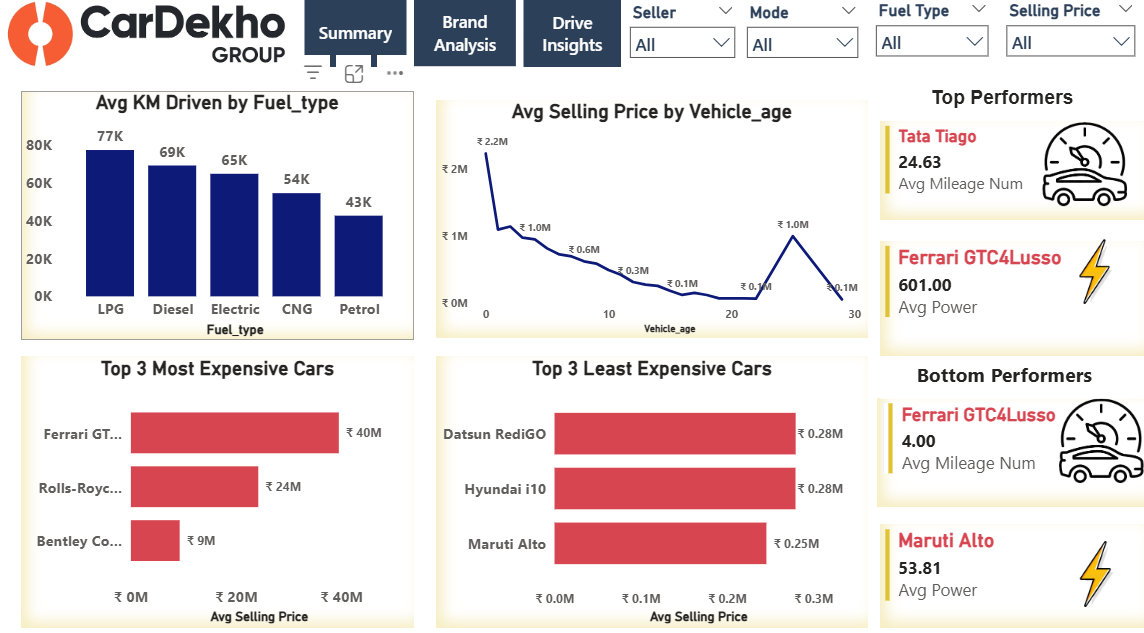

Layout of this report page (visuals, bound fields, positions):
{"tool":"powerbi","page":{"name":"Brand Analysis","canvas":[1280,720],"ordinal":1},"visuals":[{"type":"image","box":[11.6,0,313.1,92.8],"z":0},{"type":"actionButton","box":[342.9,5,112.6,77.9],"z":1000},{"type":"actionButton","box":[464.4,6.9,112.5,75.5],"z":2000},{"type":"actionButton","box":[584.7,8.3,107.7,74.5],"z":3000},{"type":"slicer","title":"Fuel Type","fields":{"Values":["Cars.Fuel_type"]},"box":[964.7,5.5,144.1,70],"z":4000},{"type":"slicer","title":"Fuel Type","fields":{"Values":["Cars.Selling_price"]},"box":[1108.8,5.5,161.9,70],"z":5000},{"type":"slicer","title":"Fuel Type","fields":{"Values":["Cars.Transmission_type"]},"box":[822,6.9,142.7,70],"z":6000},{"type":"slicer","title":"Fuel Type","fields":{"Values":["Cars.Seller_type"]},"box":[692.4,6.6,135.8,76.2],"z":7000},{"type":"clusteredColumnChart","fields":{"Category":["Cars.Fuel_type"],"Y":["Cars.Avg KM Driven"]},"box":[30.4,109.4,433.4,275.4],"z":8000},{"type":"lineChart","fields":{"Category":["Cars.Vehicle_age"],"Y":["Cars.Avg Selling Price"]},"box":[488.1,119.5,475.9,263.3],"z":9000},{"type":"clusteredBarChart","title":"Top 3 Most Expensive Cars","fields":{"Category":["Cars.Car_name"],"Y":["Cars.Avg Selling Price"]},"box":[29.8,402.5,434,299.8],"z":10000},{"type":"clusteredBarChart","title":"Top 3 Least Expensive Cars","fields":{"Category":["Cars.Car_name"],"Y":["Cars.Avg Selling Price"]},"box":[488.1,403,475.9,299.7],"z":11000},{"type":"multiRowCard","fields":{"Values":["Cars.Car_name","Cars.Avg Mileage Num"]},"box":[978.2,141.8,293.7,109.4],"z":12000},{"type":"multiRowCard","fields":{"Values":["Cars.Car_name","Cars.Avg Power"]},"box":[978.2,275.4,291.6,127.6],"z":13000},{"type":"multiRowCard","fields":{"Values":["Cars.Car_name","Cars.Avg Mileage Num"]},"box":[975.7,448.9,301.5,119.3],"z":14000},{"type":"multiRowCard","fields":{"Values":["Cars.Car_name","Cars.Avg Power"]},"box":[979,588.1,293.2,114.3],"z":15000},{"type":"image","box":[1158.5,141.8,93.2,95.2],"z":16000},{"type":"image","box":[1176.7,449.6,93.2,93.2],"z":17000},{"type":"image","box":[1162.5,251.1,107.3,113.4],"z":18000},{"type":"image","box":[1162.5,585.3,109.4,115.4],"z":19000},{"type":"textbox","box":[978.2,403,273.4,46.6],"z":20000},{"type":"textbox","box":[976.2,99.2,275.4,42.5],"z":21000}]}

Visuals, with their boxes on the page's 1280x720 design canvas (x1, y1, x2, y2). These are canvas units, not pixel positions in the 1144x633 screenshot, which may show the page scaled, cropped or inside an application window:
image: 12:0:325:93
actionButton: 343:5:456:83
actionButton: 464:7:577:82
actionButton: 585:8:692:83
"Fuel Type" slicer: 965:6:1109:76
"Fuel Type" slicer: 1109:6:1271:76
"Fuel Type" slicer: 822:7:965:77
"Fuel Type" slicer: 692:7:828:83
clusteredColumnChart - Cars.Fuel_type x Cars.Avg KM Driven: 30:109:464:385
lineChart - Cars.Vehicle_age x Cars.Avg Selling Price: 488:120:964:383
"Top 3 Most Expensive Cars" clusteredBarChart: 30:402:464:702
"Top 3 Least Expensive Cars" clusteredBarChart: 488:403:964:703
multiRowCard - Cars.Car_name x Cars.Avg Mileage Num: 978:142:1272:251
multiRowCard - Cars.Car_name x Cars.Avg Power: 978:275:1270:403
multiRowCard - Cars.Car_name x Cars.Avg Mileage Num: 976:449:1277:568
multiRowCard - Cars.Car_name x Cars.Avg Power: 979:588:1272:702
image: 1158:142:1252:237
image: 1177:450:1270:543
image: 1162:251:1270:364
image: 1162:585:1272:701
textbox: 978:403:1252:450
textbox: 976:99:1252:142
